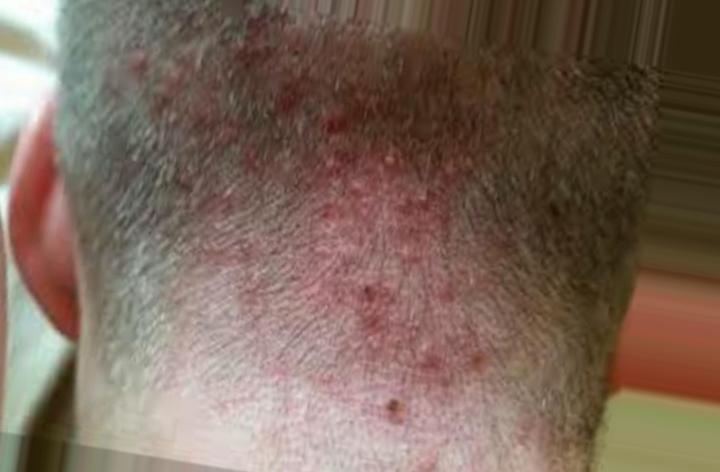Folliculitis: (260, 96, 510, 439)
